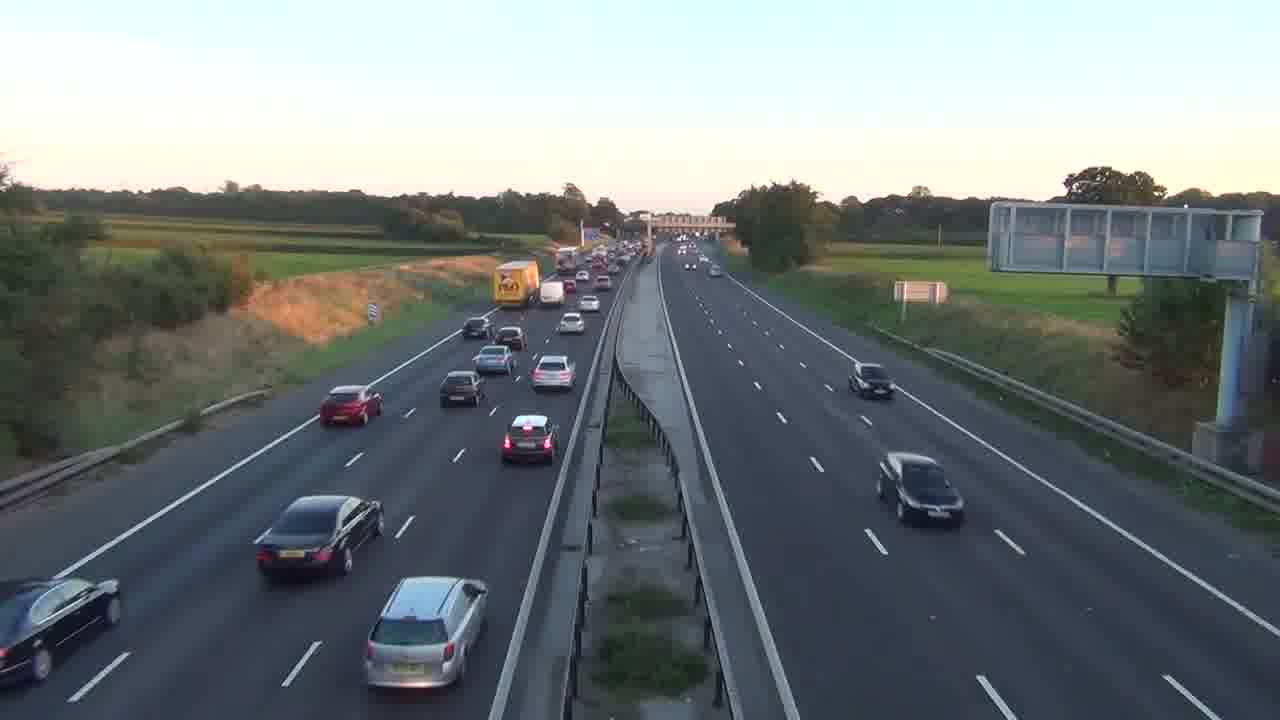car: (362, 575, 490, 693), (0, 574, 122, 689), (252, 493, 384, 581), (876, 450, 966, 528), (500, 413, 559, 466), (319, 384, 384, 427), (530, 353, 576, 392), (848, 362, 893, 400), (440, 370, 484, 407), (471, 345, 517, 377), (495, 325, 527, 351), (557, 312, 586, 335)
truck: (493, 258, 541, 306)
